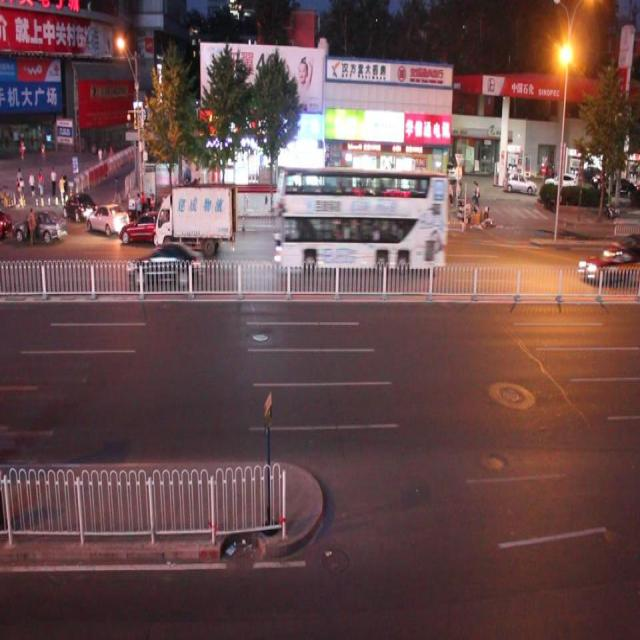bus: (153, 184, 240, 259)
car: (126, 239, 206, 292), (574, 243, 640, 289), (120, 210, 182, 251), (13, 204, 69, 248), (86, 200, 129, 242), (62, 188, 96, 224)
van: (271, 166, 449, 274)
